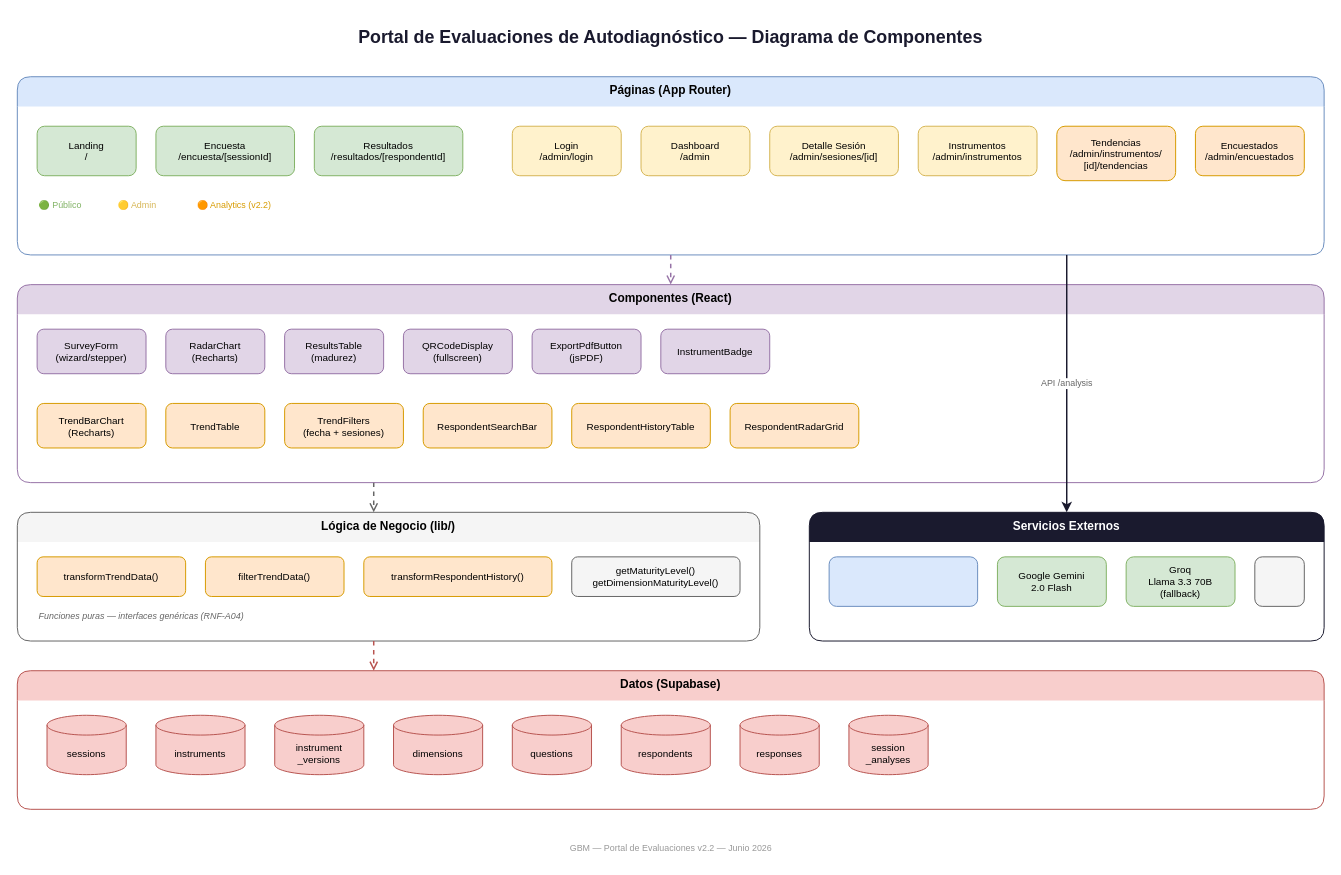
Image size: 1341x875. Some labels were removed from this diagram. The centre of each missing label's shape, as x and y in pixels:
"Supabase (PostgreSQL + Auth + RLS)" belongs at point (903, 581).
"Vercel (Hosting)" belongs at point (1279, 581).
